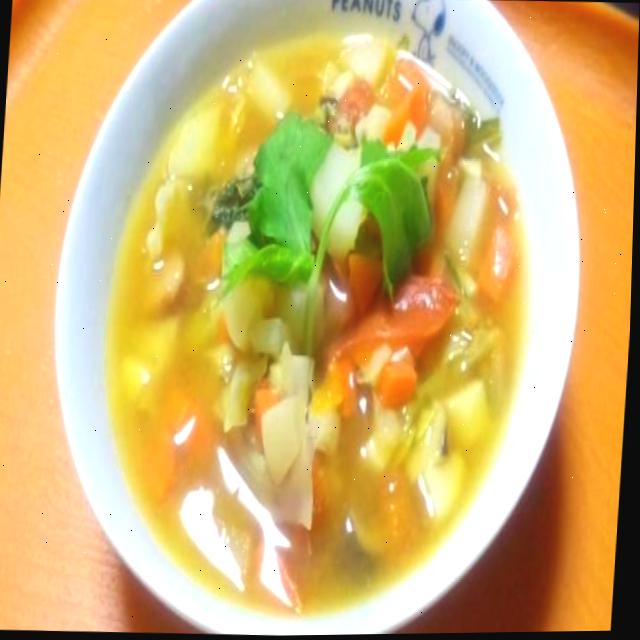汤锅炖物: (38, 0, 622, 624)
